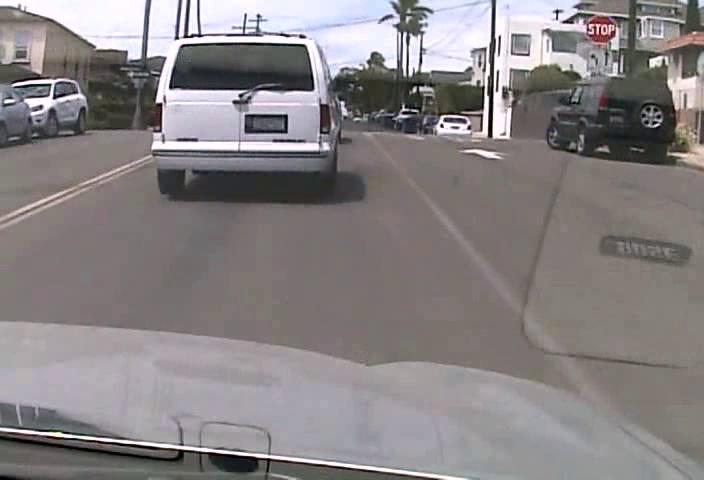stop: (585, 13, 617, 44)
